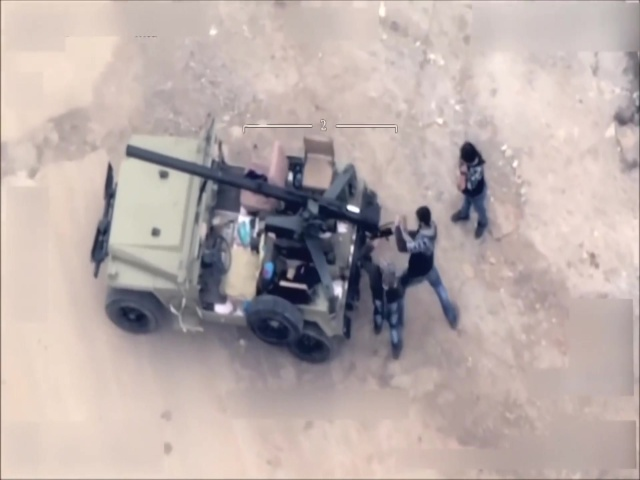person: (395, 207, 466, 341), (350, 231, 410, 360), (443, 137, 494, 245)
vehicle: (85, 132, 373, 364)
